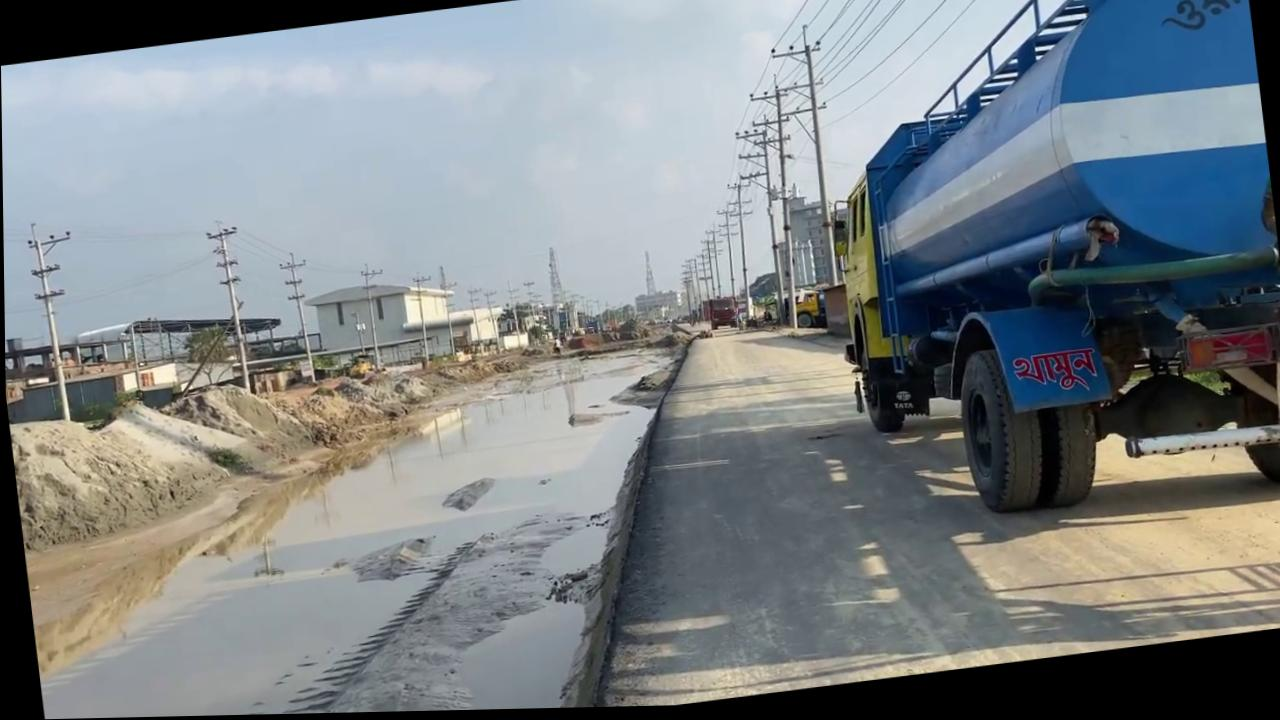Animal: (798, 0, 1280, 541)
Curb: (515, 328, 742, 711)
Pole: (767, 25, 849, 293), (23, 217, 90, 422), (204, 222, 256, 396), (276, 251, 319, 386), (357, 262, 392, 371)
Rickshaw: (544, 259, 1280, 711)
Sidewalk: (8, 339, 721, 720)
Traffic-sign: (171, 321, 242, 395)
Tree: (762, 289, 826, 337), (337, 319, 384, 381), (791, 291, 827, 333), (705, 297, 739, 333), (342, 352, 383, 381), (563, 327, 603, 354)
